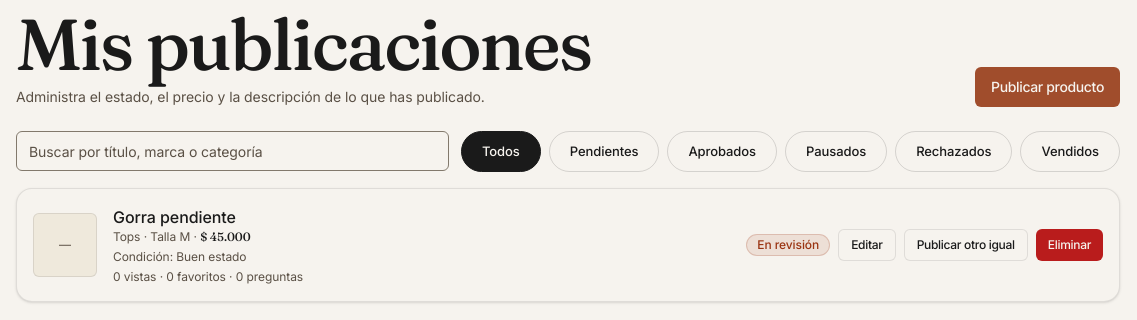
MisProductosPage › deshabilita Editar mientras una eliminación está en curso, para no editar una fila que está desapareciendo
The width and height of the screenshot is (1137, 320).
Click the button "Eliminar" at (1069, 245), box [1036,229,1103,261]
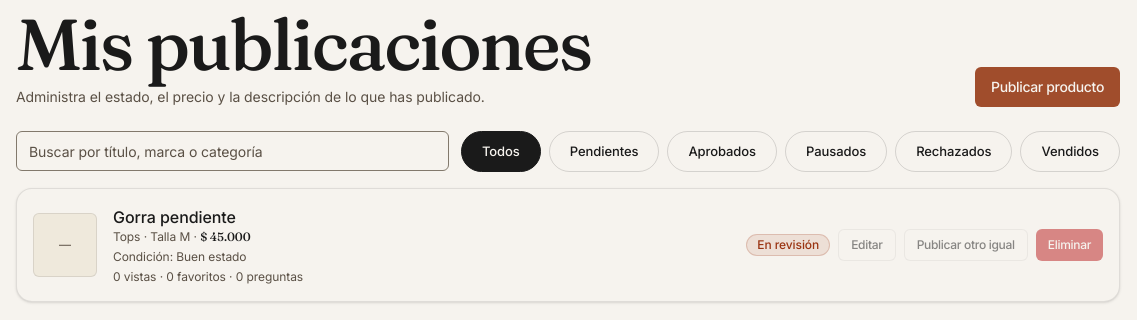
expect the button "Editar" is disabled: met, box [838,229,896,261]
